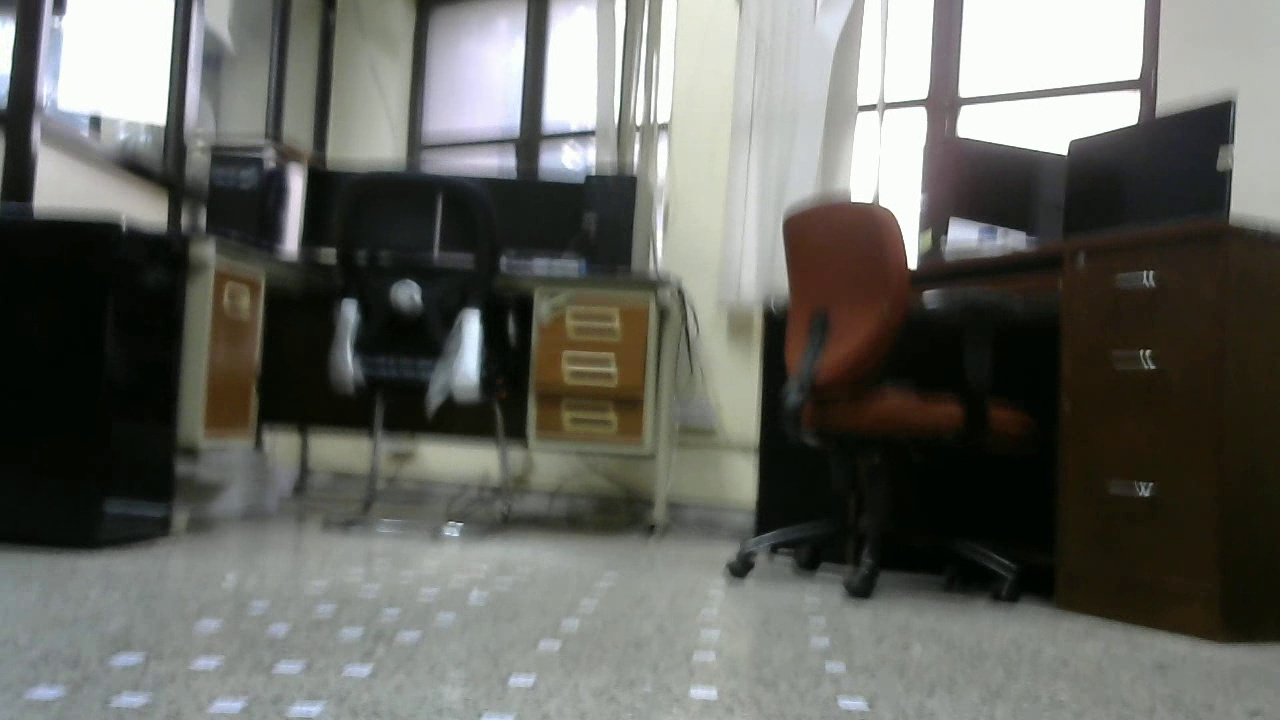chair: (722, 195, 1036, 600), (315, 177, 513, 543)
